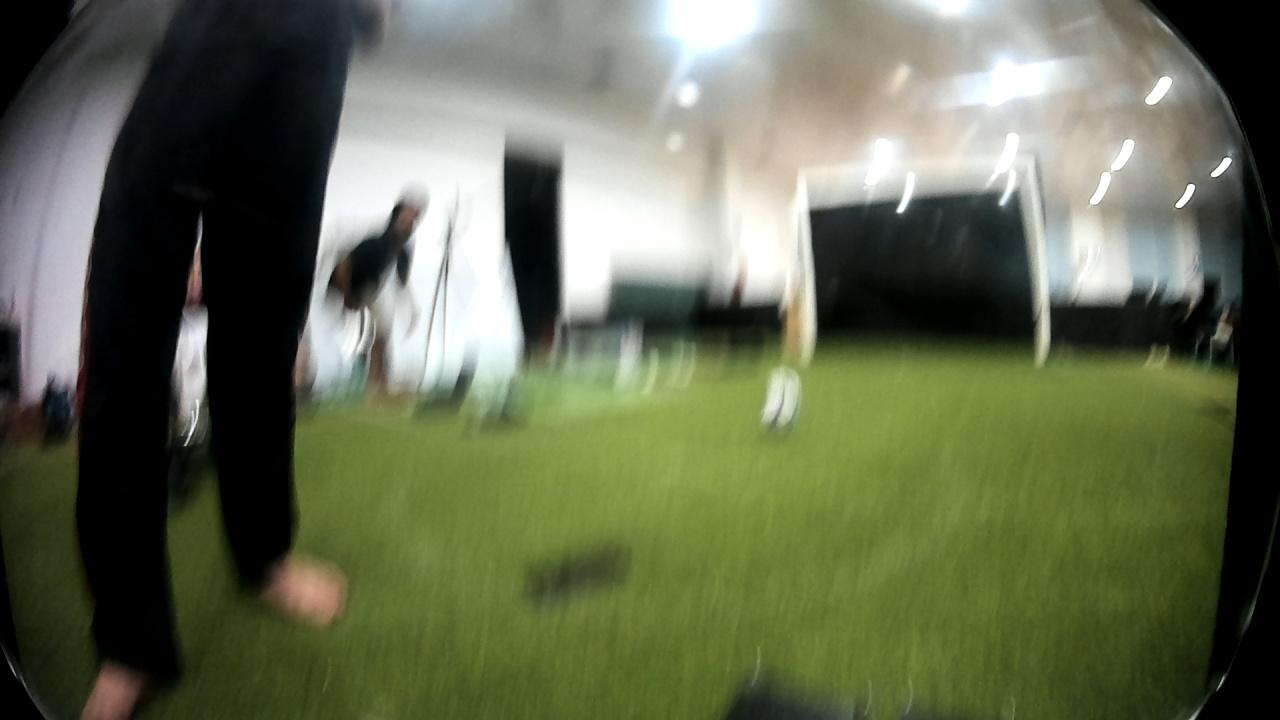ball: (760, 355, 805, 437)
